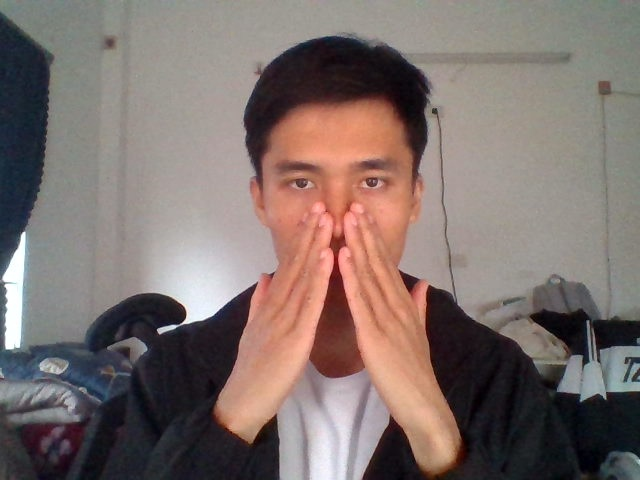Thanks: (217, 198, 458, 418)
